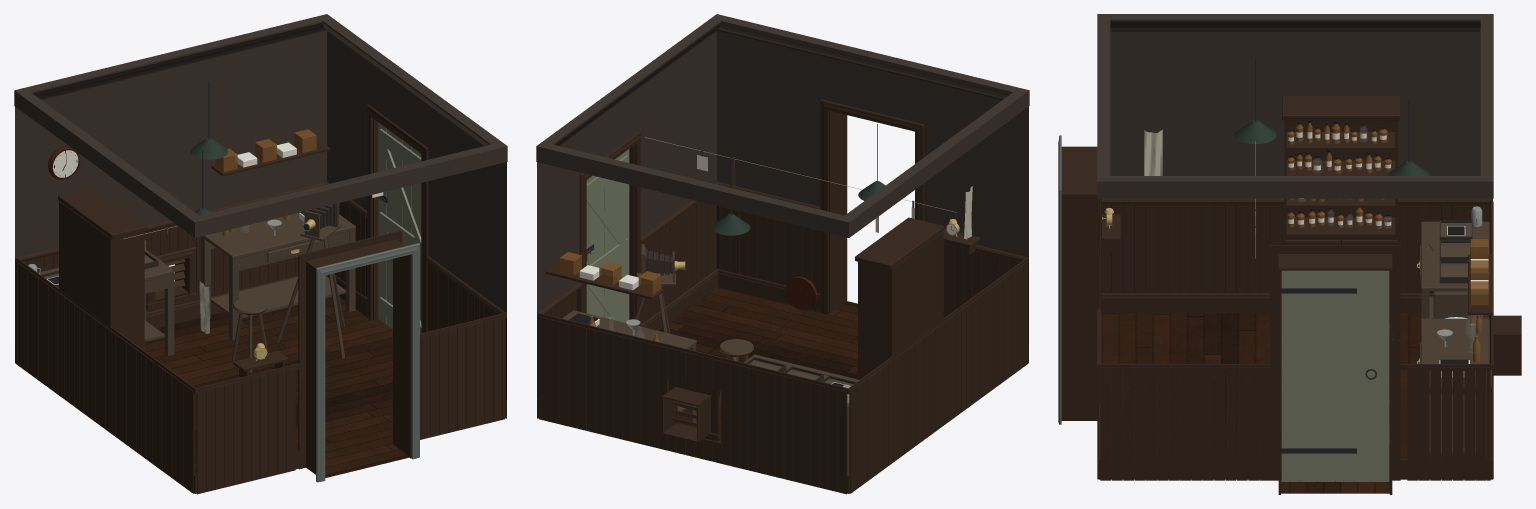
Rendered from room_darkroom.gltf.
3 views of the same model, side by side, from view 1: azimuth 30°, elevation 25°; view 2: azimuth 150°, elevation 25°; view 3: azimuth 270°, elevation 25° (orthographic). The views are drawn at different scales.
Parts seen in each view (by area): view 1: 暗房·墙面与线脚, 暗房·药品柜-col, 暗房·工作台右-col, 暗房·温室侧门, 暗房·墙上搁板, 暗房·三脚架相机, 暗房·工作台左-col, 暗房·凳子, 暗房·挂钟（停在七点）, 暗房·红灯, 暗房·门边搁板; view 2: 暗房·墙面与线脚, 暗房·药品柜-col, 暗房·温室侧门, 暗房·墙上搁板, 暗房·工作台右-col, 暗房·三脚架相机, 暗房·显影盘（全黑相纸、茶杯）, 暗房·挂钟（停在七点）, 暗房·晾片绳, 暗房·红灯, 暗房·工作台左-col, 暗房·凳子 (+1 smaller); view 3: 暗房·墙面与线脚, 暗房·温室侧门, 暗房·药品柜-col, 暗房·工作台右-col, 暗房·工作台左-col, 暗房·显影盘（全黑相纸、茶杯）, 暗房·墙上搁板, 暗房·台下杂物, 暗房·药瓶与量筒, 暗房·毛巾, 暗房·白灯, 暗房·门边搁板 (+1 smaller).
Part boxes in pixels (box(x1,y1,x2,y2)): 暗房·墙面与线脚: box(14, 14, 507, 494); 暗房·药品柜-col: box(58, 187, 147, 351); 暗房·工作台右-col: box(201, 212, 355, 340); 暗房·温室侧门: box(377, 122, 421, 333); 暗房·墙上搁板: box(211, 129, 330, 176); 暗房·三脚架相机: box(276, 203, 344, 358); 暗房·工作台左-col: box(38, 250, 174, 356); 暗房·凳子: box(231, 297, 267, 372); 暗房·挂钟（停在七点）: box(48, 146, 80, 179); 暗房·红灯: box(190, 81, 228, 159); 暗房·门边搁板: box(233, 351, 287, 379); 暗房·墙面与线脚: box(536, 14, 1029, 494); 暗房·药品柜-col: box(855, 217, 944, 379); 暗房·温室侧门: box(586, 149, 629, 322); 暗房·墙上搁板: box(545, 252, 663, 299); 暗房·工作台右-col: box(562, 310, 696, 426); 暗房·三脚架相机: box(634, 244, 685, 402); 暗房·显影盘（全黑相纸、茶杯）: box(732, 357, 856, 403); 暗房·挂钟（停在七点）: box(785, 276, 817, 310); 暗房·晾片绳: box(645, 137, 956, 232); 暗房·红灯: box(712, 156, 750, 235); 暗房·工作台左-col: box(743, 354, 858, 475); 暗房·凳子: box(718, 339, 753, 402); 暗房·墙面与线脚: box(1058, 14, 1521, 494); 暗房·温室侧门: box(1281, 270, 1393, 481); 暗房·药品柜-col: box(1282, 96, 1399, 329); 暗房·工作台右-col: box(1416, 318, 1491, 458); 暗房·工作台左-col: box(1416, 221, 1489, 318); 暗房·显影盘（全黑相纸、茶杯）: box(1428, 206, 1482, 283); 暗房·墙上搁板: box(1468, 239, 1492, 314); 暗房·台下杂物: box(1433, 291, 1478, 318); 暗房·药瓶与量筒: box(1437, 315, 1481, 377); 暗房·毛巾: box(1144, 129, 1162, 175); 暗房·白灯: box(1234, 57, 1276, 144); 暗房·门边搁板: box(1098, 214, 1120, 250).
Bounding box in the file's own units: 3.78 × 2.91 × 4.08.
26 materials, 3 textured.
